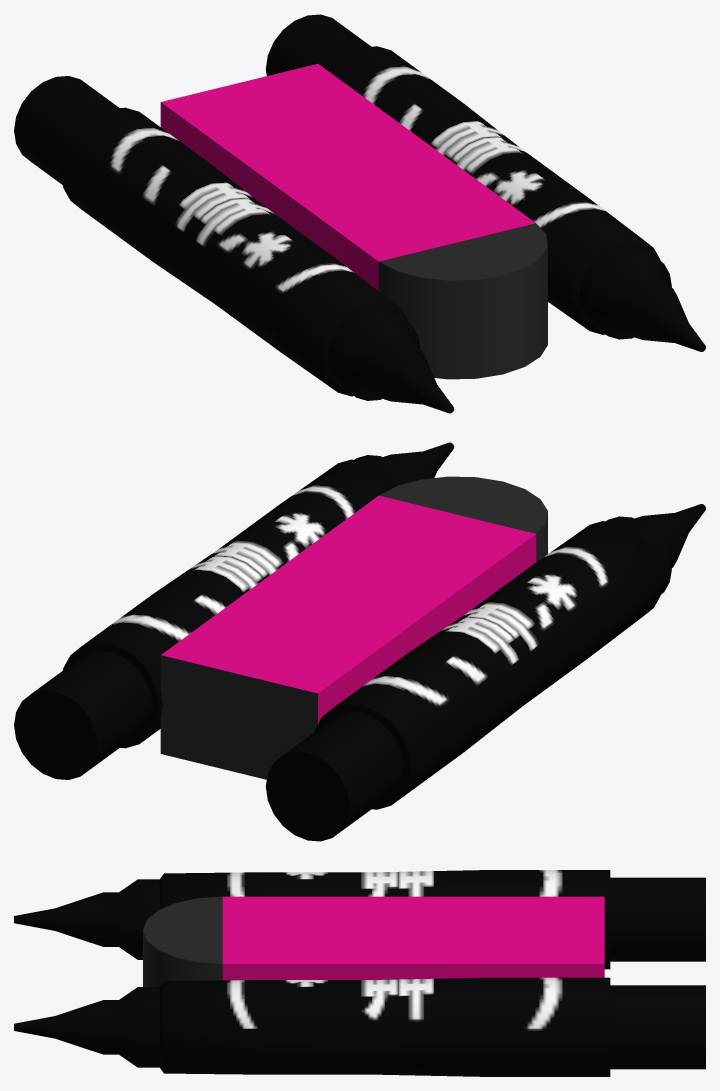
The model's file is boss_01.glb.
3 renders of one model, top to bottom at view 1: azimuth 30°, elevation 25°; view 2: azimuth 150°, elevation 25°; view 3: azimuth 270°, elevation 25°, orthographic. The views are drawn at different scales.
Visible parts, largest first — view 1: obj3; view 2: obj3; view 3: obj3.
Boxes of the visible parts, x1,y1,x2,y2 form: obj3: [14, 14, 705, 413]; obj3: [14, 442, 705, 841]; obj3: [14, 870, 705, 1076].
Bounding box in the file's own units: 5.57 × 1.57 × 10.87.
1 material, 1 textured.
